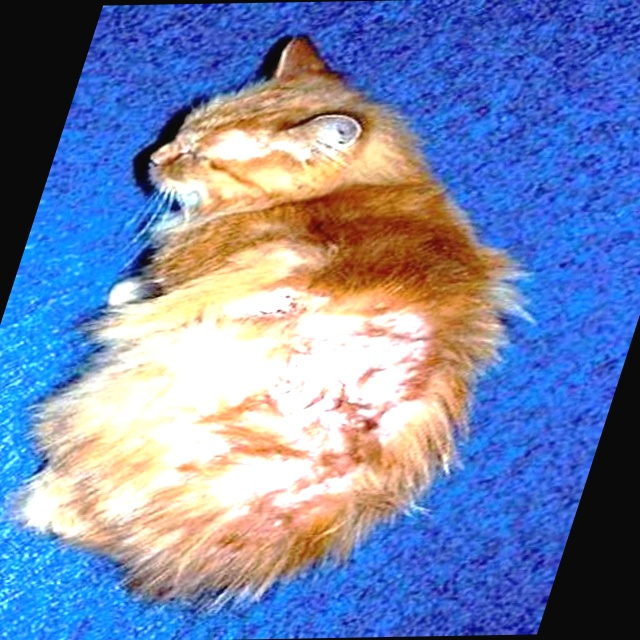hairloss: (147, 322, 437, 493)
